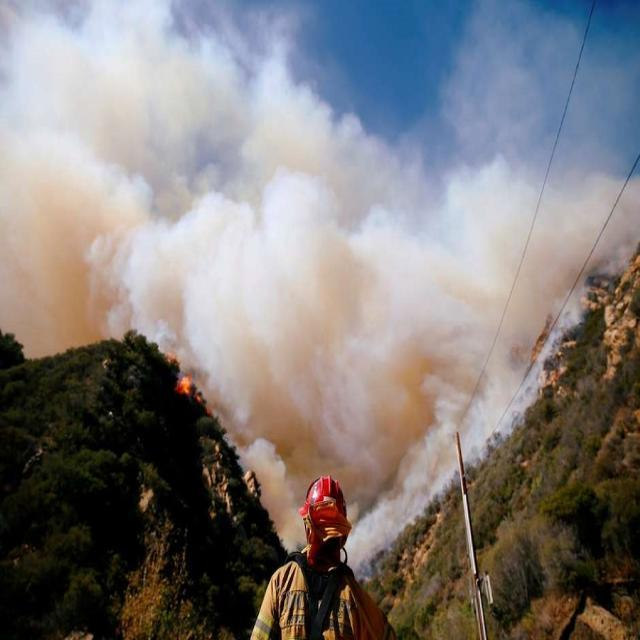Fire: (142, 324, 220, 418)
Smoke: (0, 0, 640, 379), (171, 362, 514, 599)
